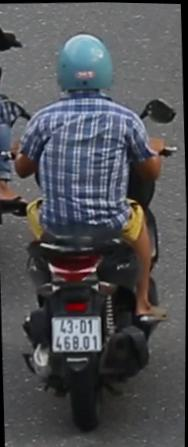LP: (49, 311, 106, 357)
helmet: (53, 26, 117, 103)
